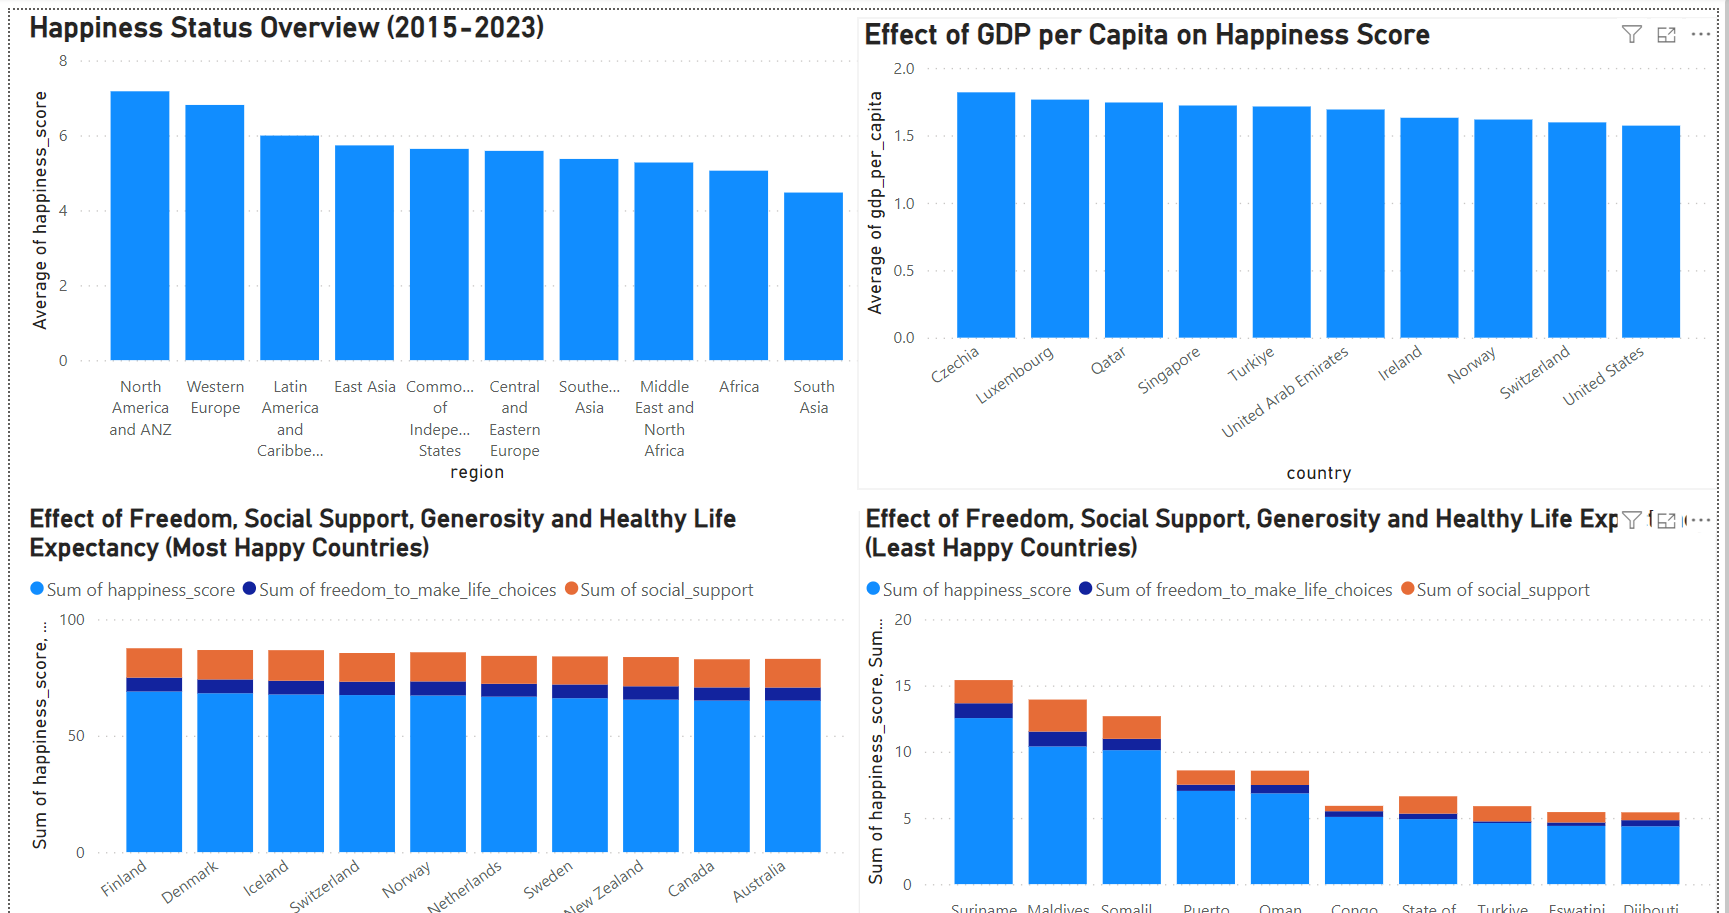

The dashboard page shown, as its layout file describes it:
{"tool":"powerbi","page":{"name":"Page 1","canvas":[1280,720],"ordinal":0},"visuals":[{"type":"clusteredColumnChart","title":"Happiness Status Overview (2015-2023)","fields":{"Y":["Avg(WHR_15_23.happiness_score)"],"Category":["WHR_15_23.region"]},"box":[9.6,0,643.6,359.5],"z":0},{"type":"clusteredColumnChart","title":"Effect of GDP per Capita on Happiness Score","fields":{"Y":["Avg(WHR_15_23.gdp_per_capita)"],"Category":["WHR_15_23.country"]},"box":[635.3,5.5,644.9,354],"z":1},{"type":"columnChart","title":"Effect of Freedom, Social Support, Generosity and Healthy Life Expectancy (Most Happy Countries)","fields":{"Y":["Sum(WHR_15_23.happiness_score)","Sum(WHR_15_23.freedom_to_make_life_choices)","Sum(WHR_15_23.social_support)"],"Category":["WHR_15_23.country"]},"box":[9.6,370.5,625.7,349.9],"z":2},{"type":"columnChart","title":"Effect of Freedom, Social Support, Generosity and Healthy Life Expectancy (Least Happy Countries)","fields":{"Y":["Sum(WHR_15_23.happiness_score)","Sum(WHR_15_23.freedom_to_make_life_choices)","Sum(WHR_15_23.social_support)"],"Category":["WHR_15_23.country"]},"box":[636.7,370.5,643.6,349.9],"z":3}]}

Visuals, with their boxes on the page's 1280x720 design canvas (x1, y1, x2, y2). These are canvas units, not pixel positions in the 1729x913 screenshot, which may show the page scaled, cropped or inside an application window:
"Happiness Status Overview (2015-2023)" clusteredColumnChart: [x1=10, y1=0, x2=653, y2=360]
"Effect of GDP per Capita on Happiness Score" clusteredColumnChart: [x1=635, y1=6, x2=1280, y2=360]
"Effect of Freedom, Social Support, Generosity and Healthy Life Expectancy (Most Happy Countries)" columnChart: [x1=10, y1=370, x2=635, y2=720]
"Effect of Freedom, Social Support, Generosity and Healthy Life Expectancy (Least Happy Countries)" columnChart: [x1=637, y1=370, x2=1280, y2=720]
